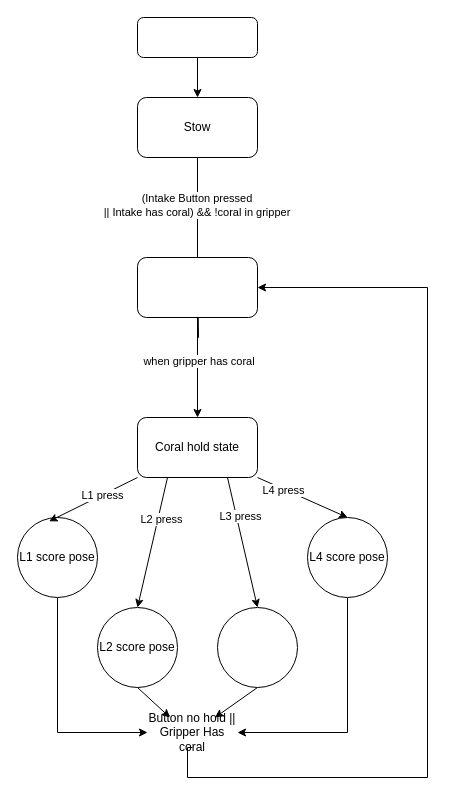
Image size: 453x803. Some labels were removed from this diagram. Here are the shapes that lost their labels. From the top down, the centre of each, then its label:
At (197,37): "Startup".
At (197,287): "Go to hand off position".
At (257,647): "L3 score pose".
